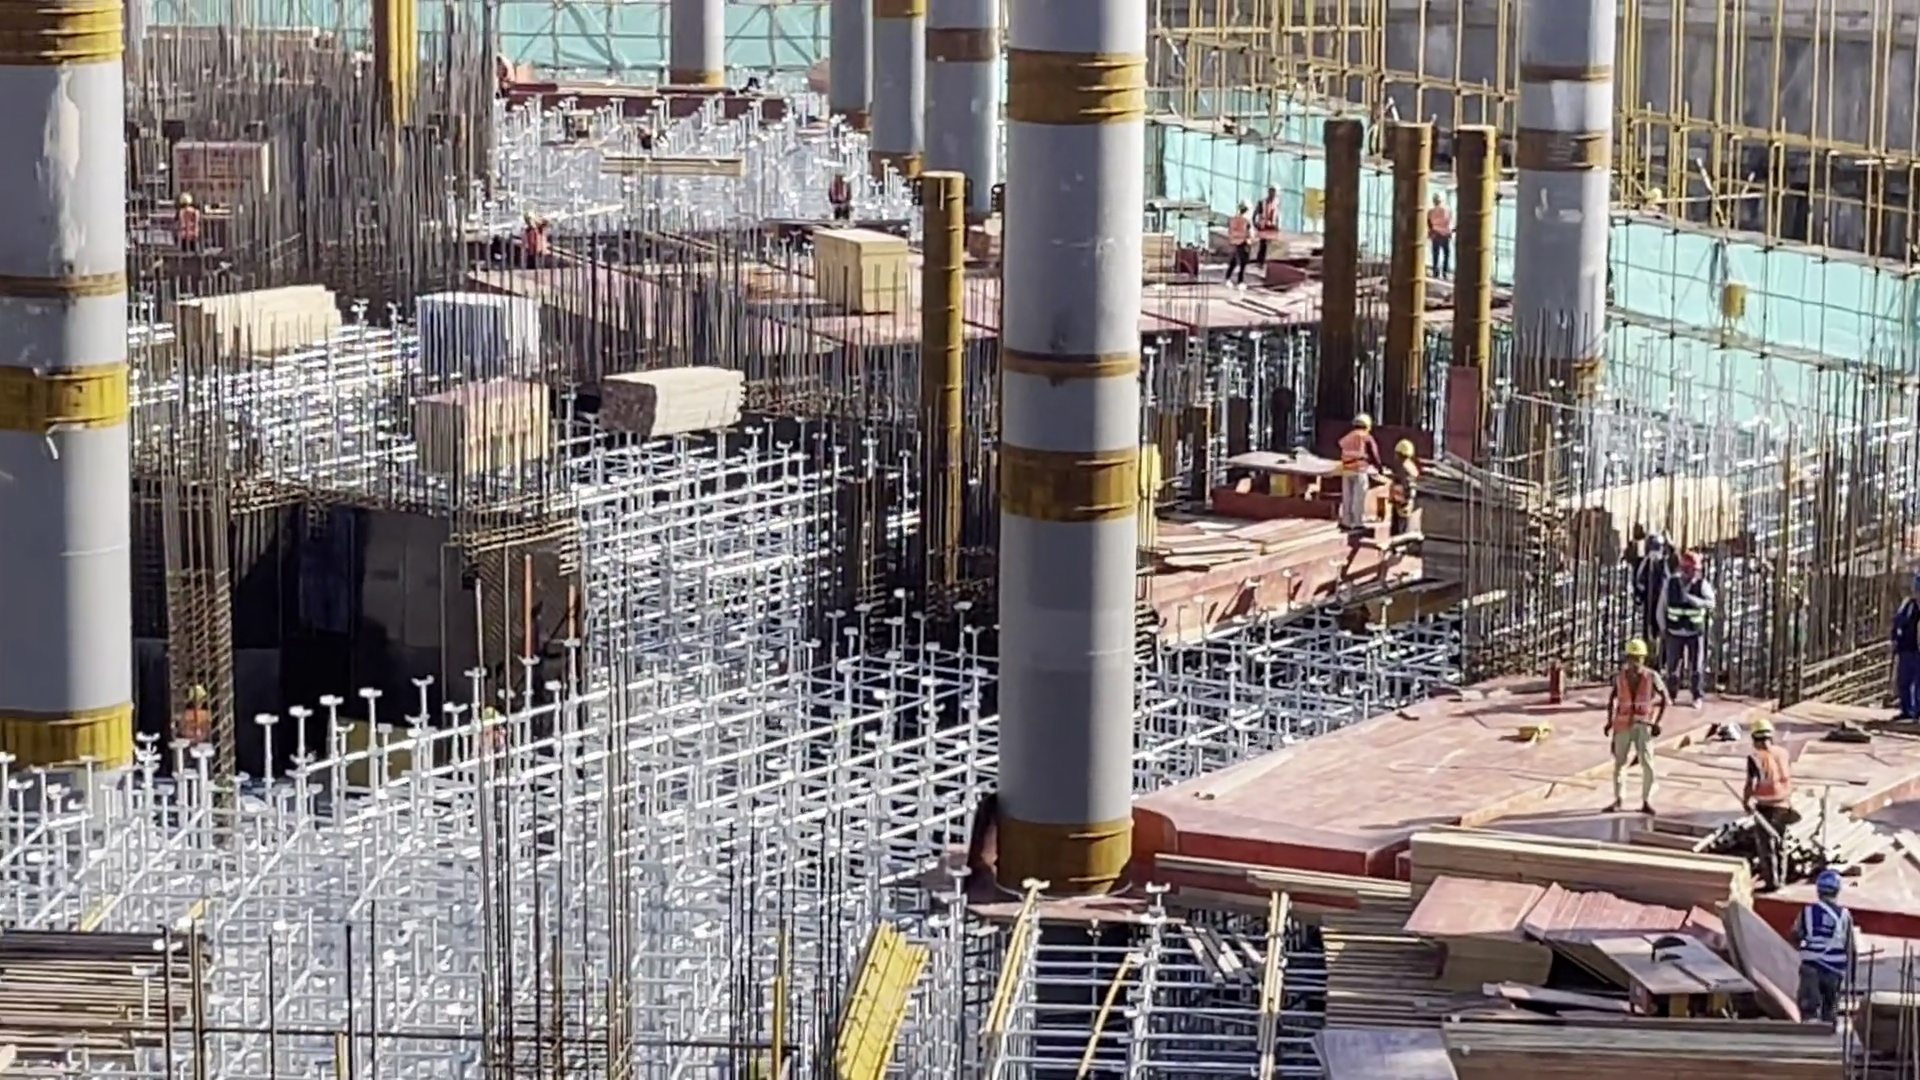helmet: (1738, 717, 1769, 746), (1390, 436, 1420, 463), (1675, 555, 1702, 583), (1344, 410, 1369, 436), (171, 194, 202, 213), (1646, 534, 1668, 556), (1626, 642, 1651, 661), (1234, 194, 1250, 211), (1265, 184, 1279, 199), (1433, 189, 1444, 207)
person: (1595, 641, 1660, 817), (1737, 718, 1799, 886), (1796, 861, 1853, 1015), (1657, 546, 1711, 695), (1332, 411, 1384, 532), (1621, 520, 1672, 636), (1383, 437, 1431, 546), (170, 685, 216, 752), (1253, 179, 1284, 268), (1424, 196, 1457, 281), (1226, 196, 1257, 280), (521, 211, 556, 269), (168, 190, 202, 247), (825, 169, 854, 223)
vest: (1667, 587, 1706, 647), (1749, 748, 1784, 811), (1614, 669, 1649, 723), (1342, 434, 1374, 475), (1427, 208, 1445, 240), (1258, 204, 1275, 238), (525, 228, 543, 256), (1230, 216, 1245, 246)
